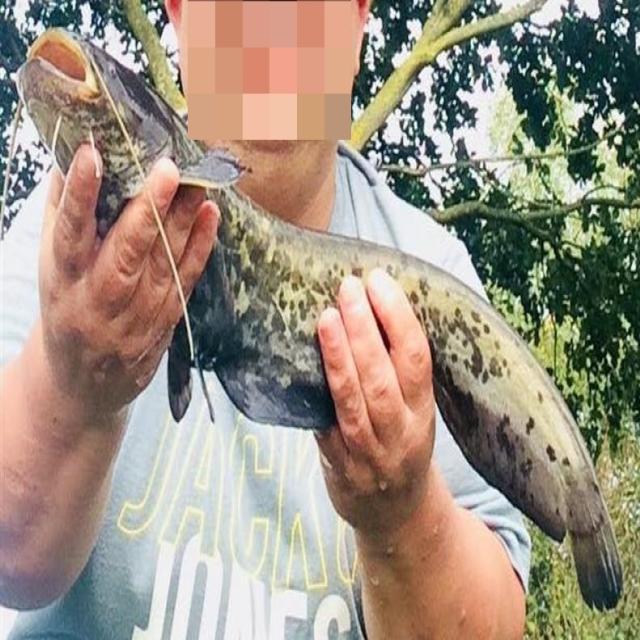Catfish: (8, 25, 632, 640)
